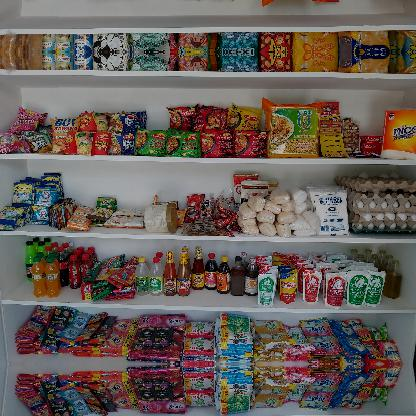Lady-s-Choice: (144, 202, 176, 232)
